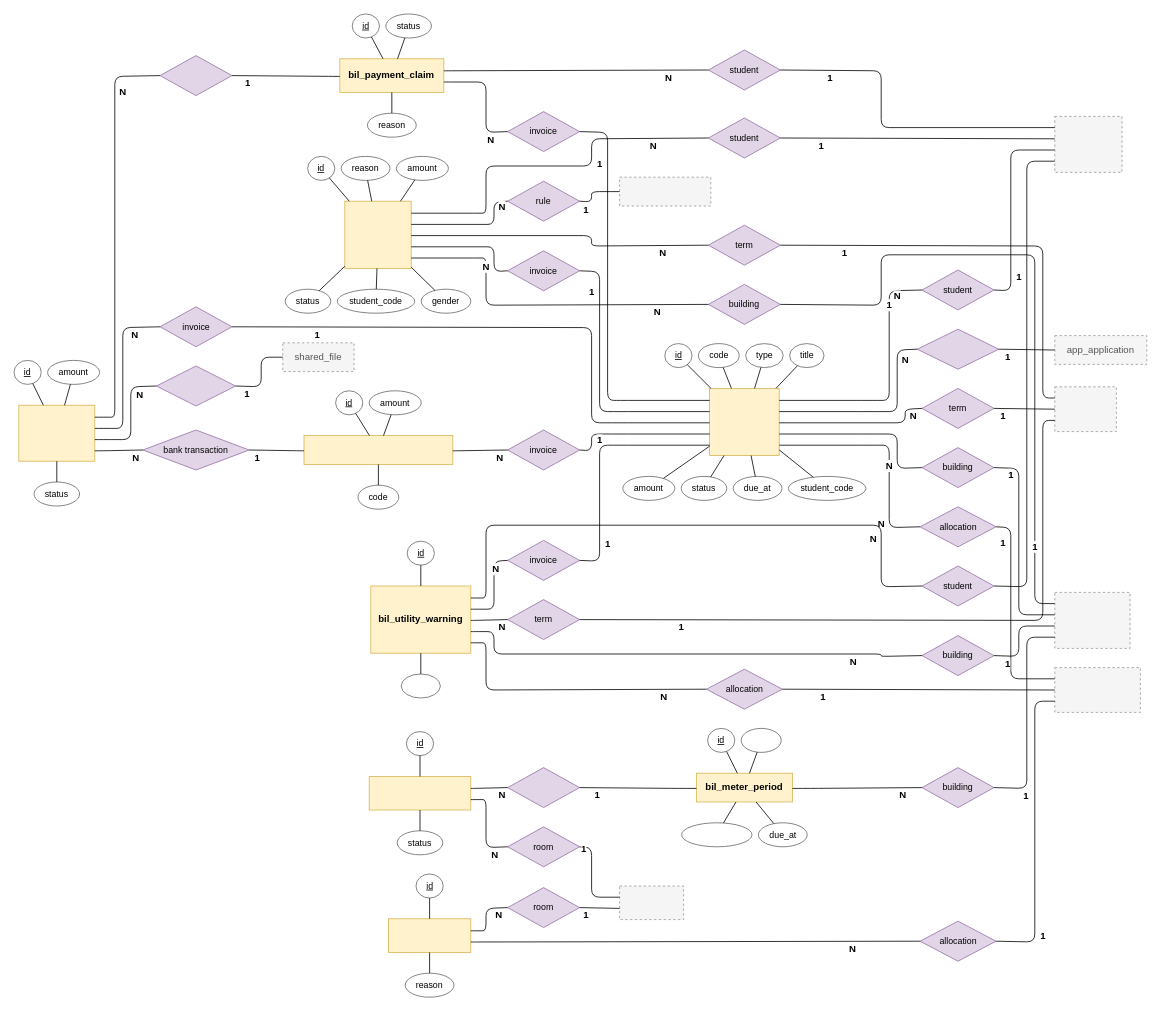
The diagram is 1161 pixels wide and 1011 high, and some of its shapes have lost their labels. Here are the shapes that lost their labels. From the top down, the centre of each, then its label:
At [195,75]: "claim".
At [1088,144]: "auth_user".
At [665,191]: "cfg_refund_rule".
At [377,234]: "bil_refund".
At [957,348]: "application".
At [196,385]: "receipt file".
At [744,422]: "bil_invoice".
At [1085,409]: "cfg_term".
At [56,432]: "bil_payment".
At [378,449]: "bil_bank_transaction_archive".
At [1092,620]: "inv_building".
At [420,685]: "level".
At [1097,689]: "asg_allocation".
At [760,740]: "label".
At [419,793]: "bil_meter_reading".
At [543,787]: "period".
At [716,834]: "period_start".
At [651,902]: "inv_room".
At [429,935]: "bil_meter_cut".
